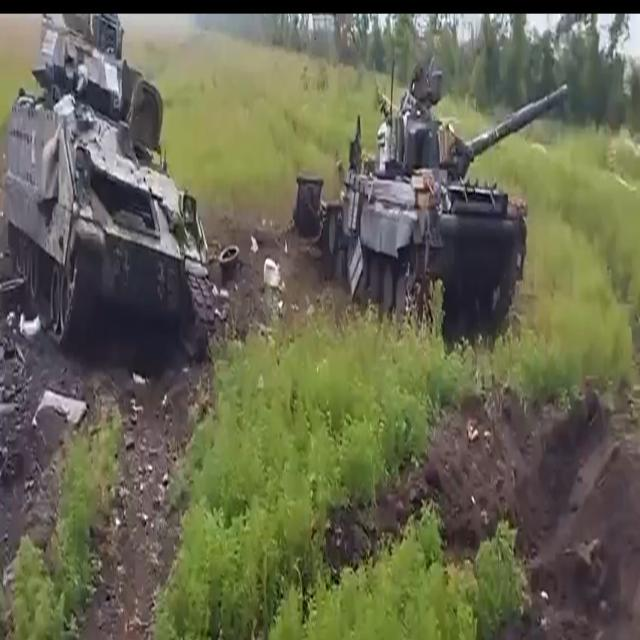AIFV: (6, 17, 212, 351)
MBT: (316, 69, 572, 349)
